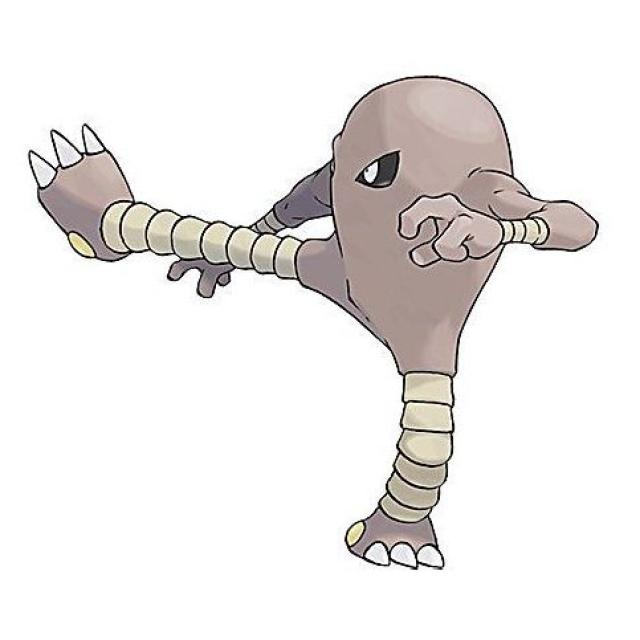Hitmonlee: (160, 72, 574, 570)
